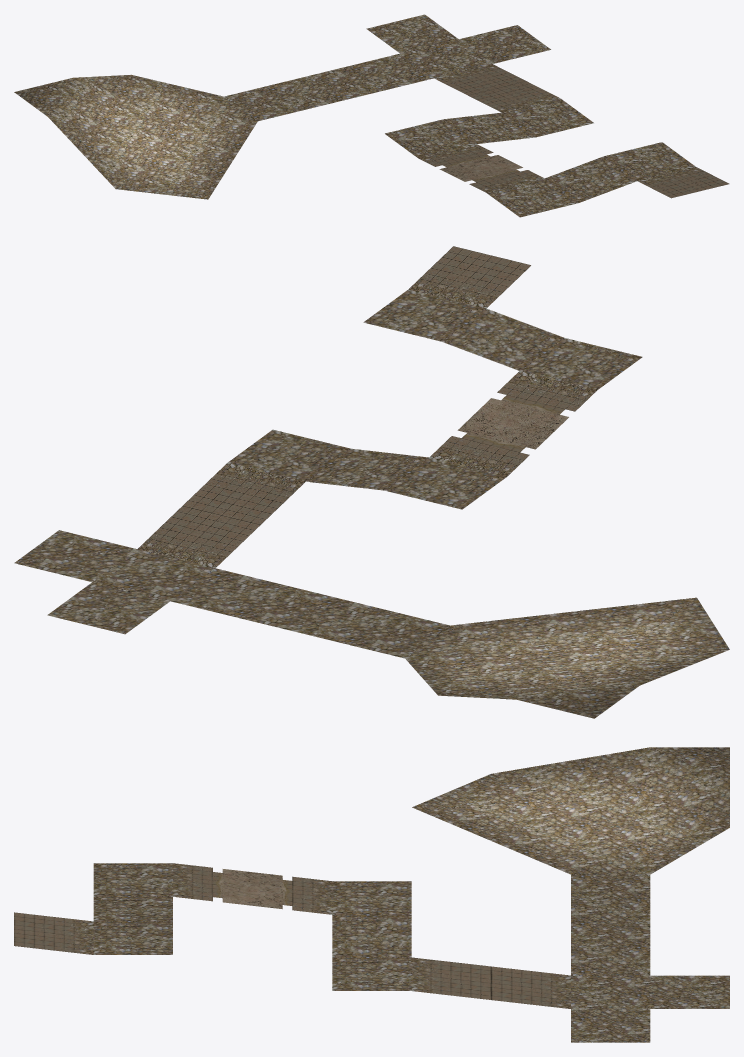
Rendered from M11Z1_Floor_Zone4.glb.
3 views of the same model, one above another, from view 1: azimuth 30°, elevation 25°; view 2: azimuth 150°, elevation 25°; view 3: azimuth 270°, elevation 25° (orthographic). The views are drawn at different scales.
Parts seen in each view (by area): view 1: M11Z1_FLOOR_ZONE4012, M11Z1_FLOOR_ZONE4002, M11Z1_FLOOR_ZONE4016, M11Z1_FLOOR_ZONE4025, M11Z1_FLOOR_ZONE4024, M11Z1_FLOOR_ZONE4017, M11Z1_FLOOR_ZONE4018, M11Z1_FLOOR_ZONE4013, M11Z1_FLOOR_ZONE4027, M11Z1_FLOOR_ZONE4008, M11Z1_FLOOR_ZONE4019, M11Z1_FLOOR_ZONE4022 (+16 smaller); view 2: M11Z1_FLOOR_ZONE4015, M11Z1_FLOOR_ZONE4011, M11Z1_FLOOR_ZONE4, M11Z1_FLOOR_ZONE4004, M11Z1_FLOOR_ZONE4005, M11Z1_FLOOR_ZONE4002, M11Z1_FLOOR_ZONE4020, M11Z1_FLOOR_ZONE4027, M11Z1_FLOOR_ZONE4001, M11Z1_FLOOR_ZONE4003, M11Z1_FLOOR_ZONE4008, M11Z1_FLOOR_ZONE4021 (+16 smaller); view 3: M11Z1_FLOOR_ZONE4016, M11Z1_FLOOR_ZONE4025, M11Z1_FLOOR_ZONE4007, M11Z1_FLOOR_ZONE4017, M11Z1_FLOOR_ZONE4024, M11Z1_FLOOR_ZONE4012, M11Z1_FLOOR_ZONE4018, M11Z1_FLOOR_ZONE4013, M11Z1_FLOOR_ZONE4019, M11Z1_FLOOR_ZONE4011, M11Z1_FLOOR_ZONE4005, M11Z1_FLOOR_ZONE4004 (+16 smaller).
Part boxes in pixels (left/top/right/bottom): M11Z1_FLOOR_ZONE4012: left=82, top=145, right=173, bottom=188; M11Z1_FLOOR_ZONE4002: left=545, top=156, right=636, bottom=202; M11Z1_FLOOR_ZONE4016: left=48, top=114, right=139, bottom=152; M11Z1_FLOOR_ZONE4025: left=73, top=75, right=164, bottom=113; M11Z1_FLOOR_ZONE4024: left=14, top=78, right=106, bottom=116; M11Z1_FLOOR_ZONE4017: left=107, top=106, right=198, bottom=145; M11Z1_FLOOR_ZONE4018: left=165, top=96, right=257, bottom=135; M11Z1_FLOOR_ZONE4013: left=141, top=135, right=232, bottom=174; M11Z1_FLOOR_ZONE4027: left=366, top=14, right=458, bottom=53; M11Z1_FLOOR_ZONE4008: left=502, top=98, right=593, bottom=137; M11Z1_FLOOR_ZONE4019: left=224, top=82, right=315, bottom=121; M11Z1_FLOOR_ZONE4022: left=400, top=39, right=491, bottom=78; M11Z1_FLOOR_ZONE4015: left=137, top=506, right=260, bottom=568; M11Z1_FLOOR_ZONE4011: left=183, top=462, right=305, bottom=524; M11Z1_FLOOR_ZONE4: left=408, top=246, right=530, bottom=308; M11Z1_FLOOR_ZONE4004: left=458, top=371, right=597, bottom=445; M11Z1_FLOOR_ZONE4005: left=429, top=401, right=567, bottom=476; M11Z1_FLOOR_ZONE4002: left=442, top=308, right=564, bottom=370; M11Z1_FLOOR_ZONE4020: left=249, top=587, right=371, bottom=639; M11Z1_FLOOR_ZONE4027: left=47, top=582, right=169, bottom=634; M11Z1_FLOOR_ZONE4001: left=520, top=338, right=642, bottom=389; M11Z1_FLOOR_ZONE4003: left=363, top=289, right=485, bottom=341; M11Z1_FLOOR_ZONE4008: left=228, top=429, right=350, bottom=481; M11Z1_FLOOR_ZONE4021: left=171, top=568, right=293, bottom=620; M11Z1_FLOOR_ZONE4016: left=571, top=747, right=650, bottom=801; M11Z1_FLOOR_ZONE4025: left=650, top=781, right=729, bottom=835; M11Z1_FLOOR_ZONE4007: left=332, top=915, right=411, bottom=957; M11Z1_FLOOR_ZONE4017: left=571, top=794, right=650, bottom=840; M11Z1_FLOOR_ZONE4024: left=650, top=747, right=729, bottom=793; M11Z1_FLOOR_ZONE4012: left=491, top=760, right=570, bottom=807; M11Z1_FLOOR_ZONE4018: left=571, top=835, right=650, bottom=874; M11Z1_FLOOR_ZONE4013: left=491, top=802, right=570, bottom=840; M11Z1_FLOOR_ZONE4019: left=571, top=874, right=650, bottom=908; M11Z1_FLOOR_ZONE4011: left=411, top=957, right=491, bottom=999; M11Z1_FLOOR_ZONE4005: left=223, top=869, right=332, bottom=914; M11Z1_FLOOR_ZONE4004: left=173, top=863, right=281, bottom=908.
Size of the model in its own units: 64 by 7 by 72.
Materials: 4 (4 with a texture image).
